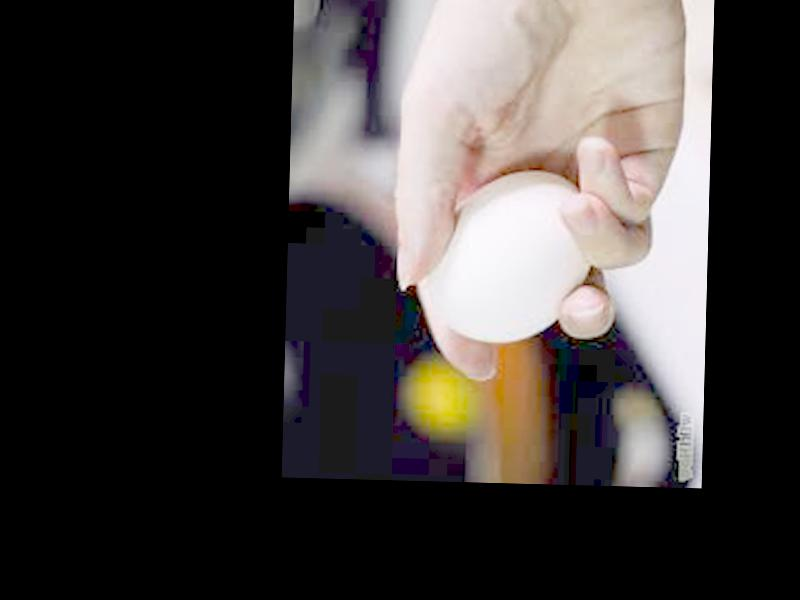Eggs: (427, 170, 590, 347)
